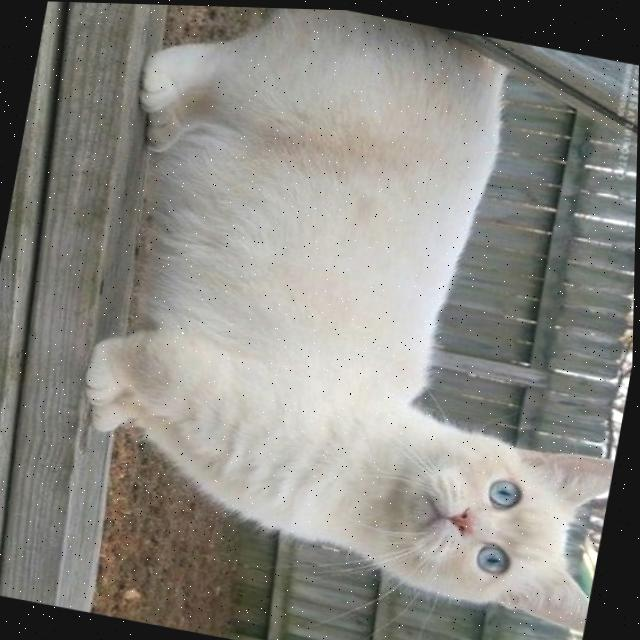Munchkin: (50, 1, 640, 635)
